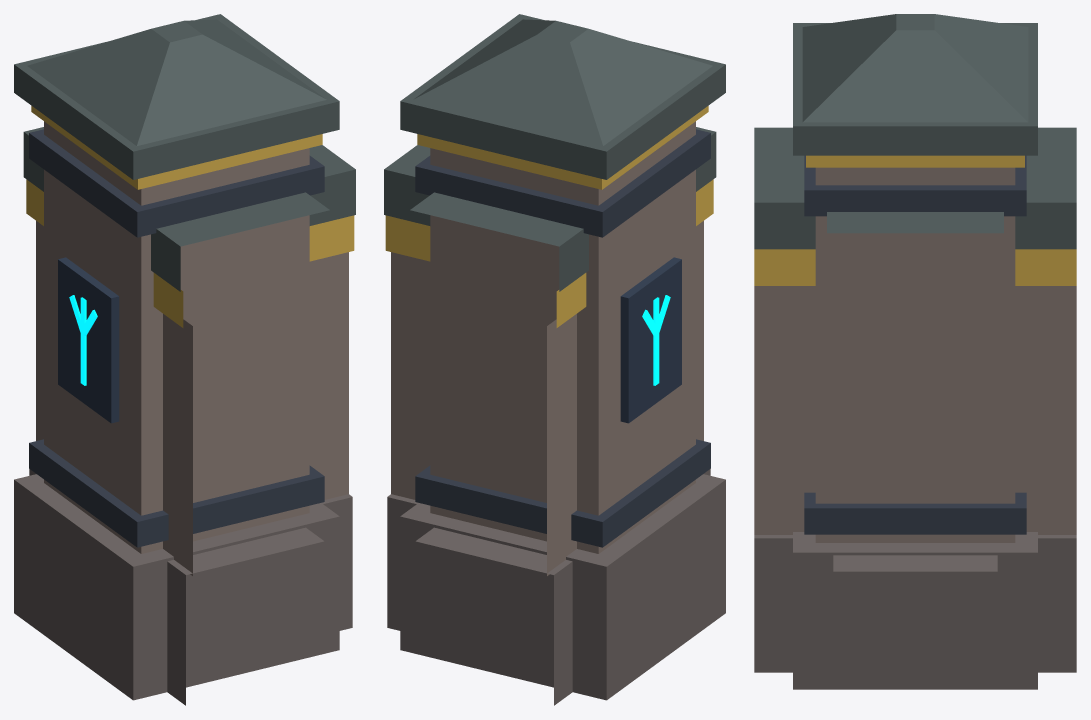
The model's file is stone_wall_tee_low.glb.
3 views of the same model, side by side, from view 1: azimuth 30°, elevation 25°; view 2: azimuth 150°, elevation 25°; view 3: azimuth 270°, elevation 25° (orthographic). The views are drawn at different scales.
Parts seen in each view (by area): view 1: body, glow_runes; view 2: body, glow_runes; view 3: body.
Part boxes in pixels (left/top/right/bottom): body: left=14, top=14, right=355, bottom=705; glow_runes: left=69, top=295, right=97, bottom=385; body: left=384, top=14, right=725, bottom=705; glow_runes: left=642, top=295, right=670, bottom=385; body: left=754, top=14, right=1076, bottom=689.
Size of the model in its own units: 0.88 by 2.11 by 1.
